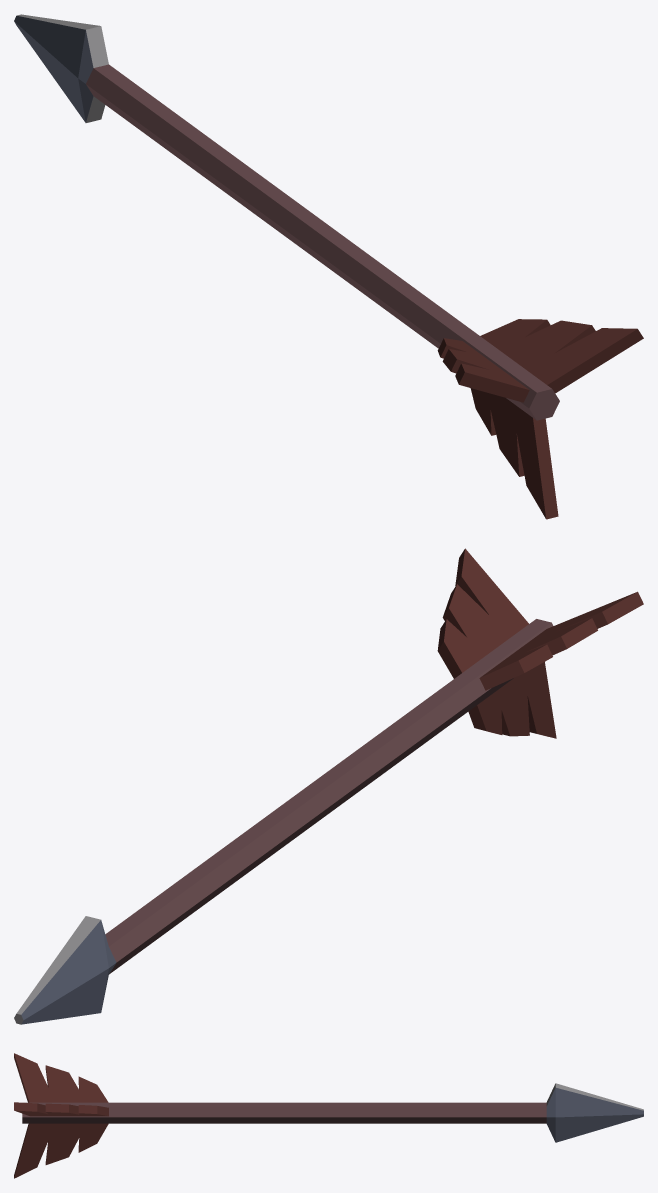
File: Arrow.glb
3 views of the same model, one above another, from view 1: azimuth 30°, elevation 25°; view 2: azimuth 150°, elevation 25°; view 3: azimuth 270°, elevation 25° (orthographic). The views are drawn at different scales.
Parts seen in each view (by area): view 1: Arrow; view 2: Arrow; view 3: Arrow.
Boxes of the visible parts, box(x1,y1,x2,y2) form: Arrow: box(14, 14, 643, 519); Arrow: box(14, 548, 643, 1024); Arrow: box(14, 1053, 643, 1178).
Bounding box in the file's own units: 0.146 × 0.1269 × 0.728.
